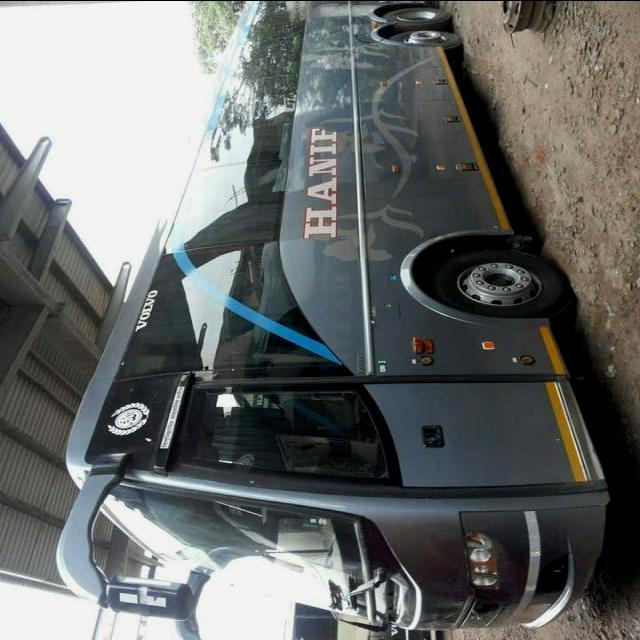bus: (49, 3, 621, 638)
